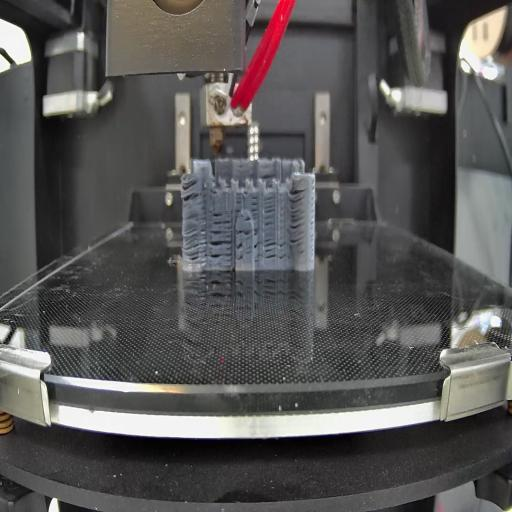cracks: (208, 210, 234, 272), (183, 215, 206, 265), (288, 189, 306, 245), (252, 196, 261, 266), (182, 178, 207, 202), (237, 229, 253, 264), (263, 197, 277, 230), (263, 238, 276, 261), (234, 191, 244, 213), (278, 242, 287, 260), (260, 174, 278, 182), (243, 217, 253, 223)
